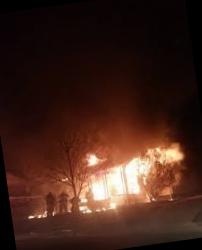Fire: (59, 154, 180, 214)
Smoke: (41, 70, 179, 172)
